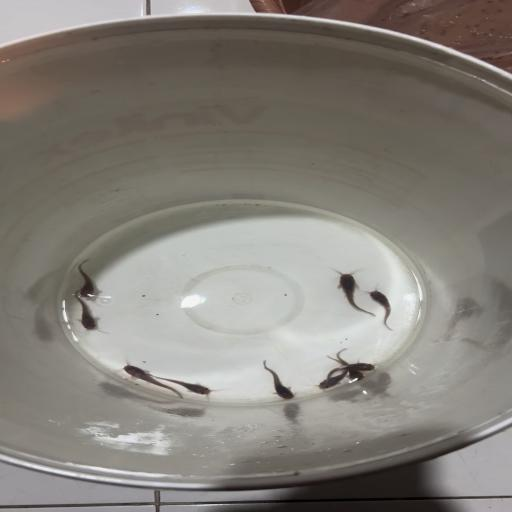lele: (118, 361, 184, 399), (332, 266, 377, 318), (146, 371, 220, 399), (364, 284, 396, 332), (258, 360, 296, 400), (322, 361, 376, 386), (71, 289, 101, 333), (316, 355, 348, 390), (73, 256, 98, 299), (335, 348, 365, 382)
